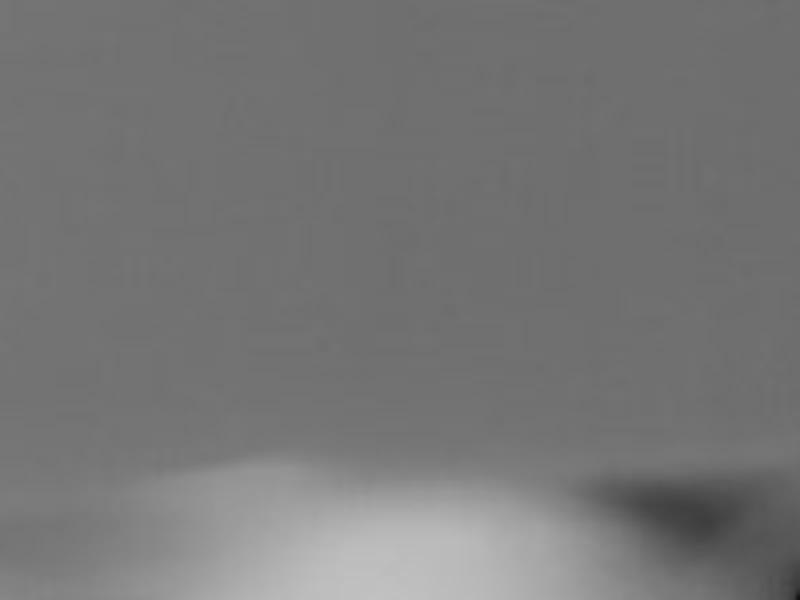defect: (624, 473, 743, 550), (784, 560, 796, 600)
